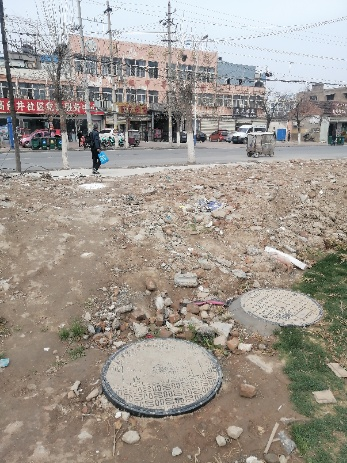good: (102, 337, 224, 415), (240, 287, 323, 327)
